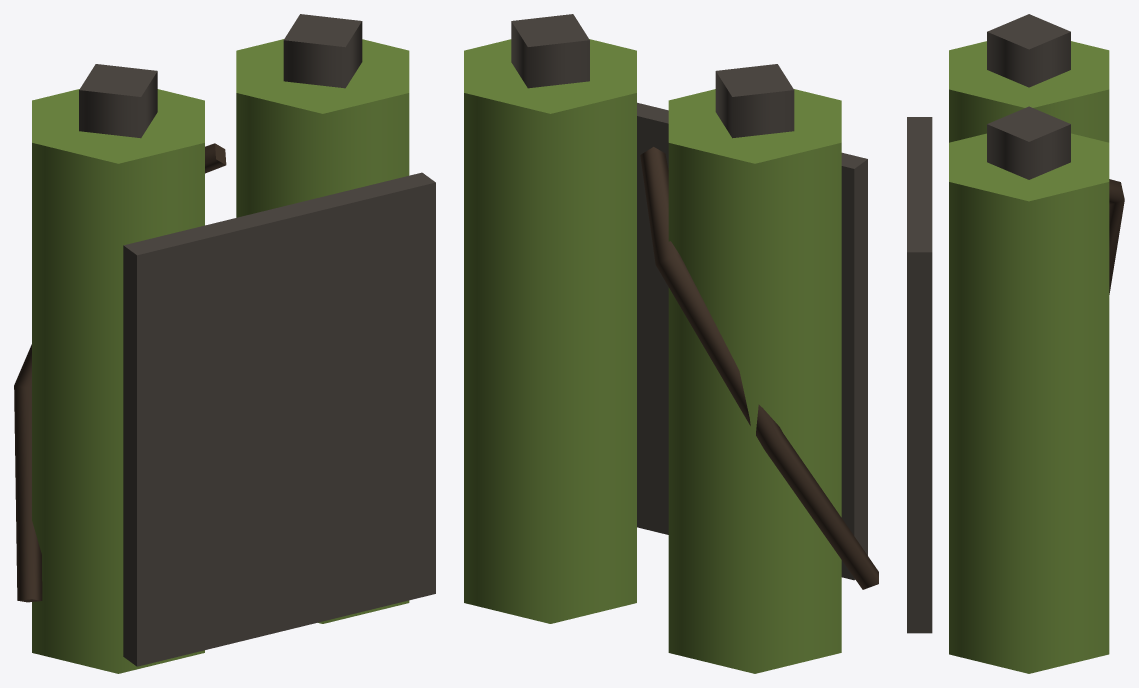
3 renders of one model, left to right at view 1: azimuth 30°, elevation 25°; view 2: azimuth 150°, elevation 25°; view 3: azimuth 270°, elevation 25°, orthographic. The views are drawn at different scales.
Parts seen in each view (by area): view 1: raider_gear_chem_tank; view 2: raider_gear_chem_tank; view 3: raider_gear_chem_tank.
Boxes of the visible parts, left/top/right/bottom form: raider_gear_chem_tank: left=14, top=14, right=435, bottom=673; raider_gear_chem_tank: left=464, top=14, right=878, bottom=673; raider_gear_chem_tank: left=907, top=14, right=1124, bottom=673.
Size of the model in its own units: 0.513 by 0.67 by 0.2588.
